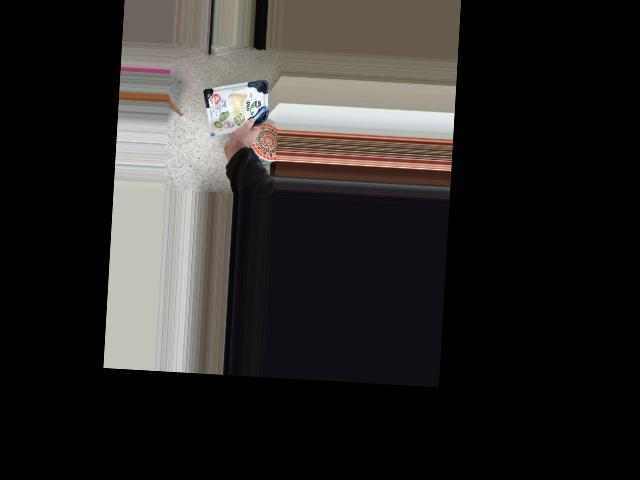cheese: (200, 81, 274, 133)
